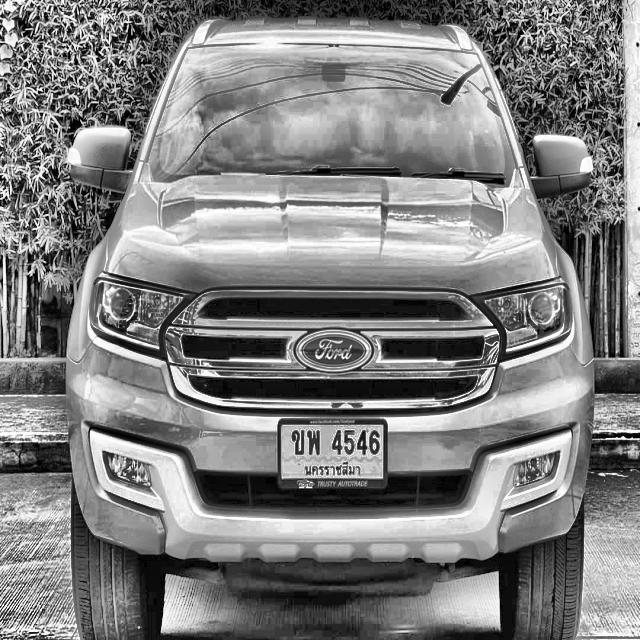license-plate: (274, 409, 391, 494)
